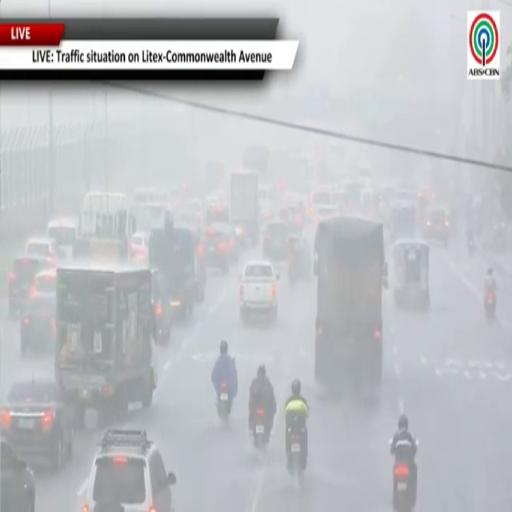car: (83, 430, 176, 511), (2, 376, 74, 471), (8, 254, 55, 316), (240, 261, 279, 324), (0, 441, 35, 511), (20, 294, 56, 355), (203, 223, 235, 274), (152, 269, 172, 345), (47, 218, 78, 258), (262, 220, 288, 262), (424, 205, 450, 246), (25, 236, 61, 261), (30, 268, 56, 297), (280, 204, 303, 234), (129, 232, 149, 263), (315, 205, 339, 226), (206, 203, 229, 223)
motorcycle: (393, 461, 416, 511), (287, 426, 305, 476), (253, 408, 269, 449), (217, 382, 231, 421), (484, 291, 496, 320), (288, 261, 298, 286), (467, 238, 475, 256)
truck: (55, 265, 155, 425), (313, 216, 387, 390), (149, 217, 206, 317), (74, 191, 135, 263), (230, 170, 260, 246), (243, 144, 270, 178)
